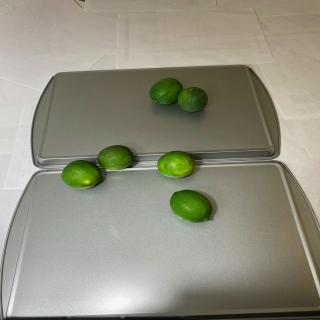Lemon: (169, 189, 213, 223), (61, 160, 101, 189), (157, 150, 195, 178), (149, 77, 183, 105), (97, 145, 134, 170), (177, 86, 208, 112)
